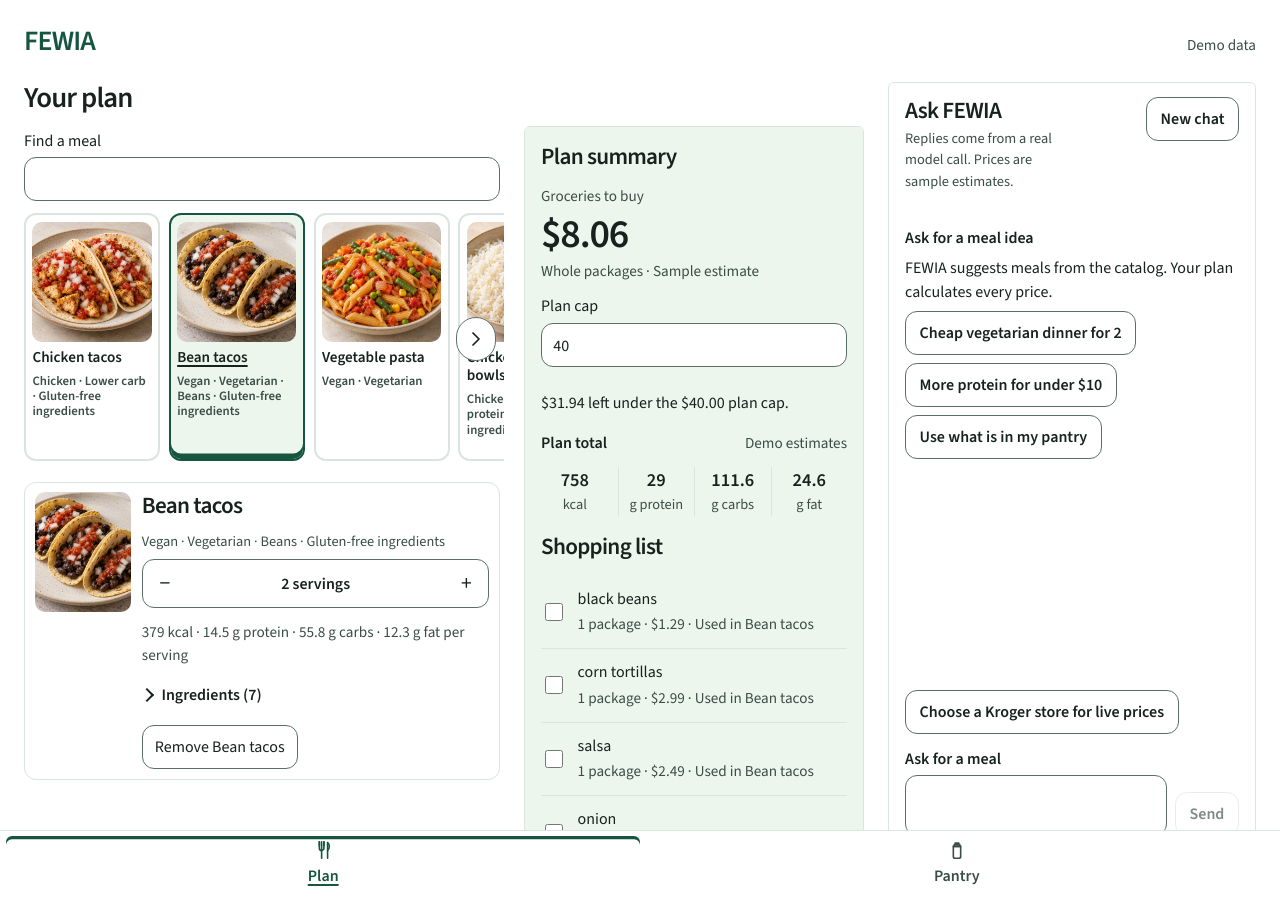
Test: TonightPrototype › keeps the estimate status still when a serving bound is rejected
Click the button named "Decrease servings for Bean tacos" at {"x": 165, "y": 584}, box [143,560,187,607]
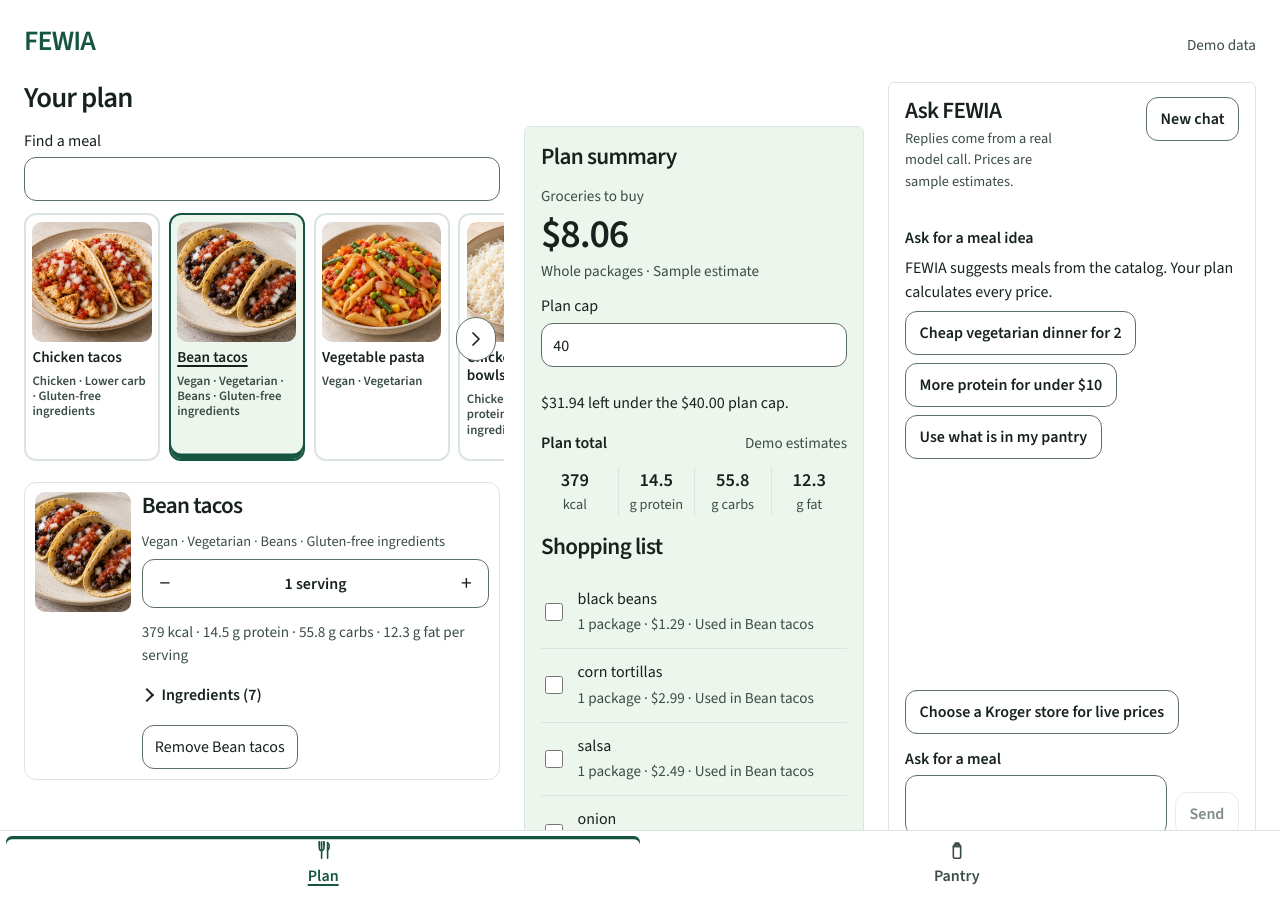
Click the button named "Decrease servings for Bean tacos" at {"x": 165, "y": 584}, box [143,560,187,607]
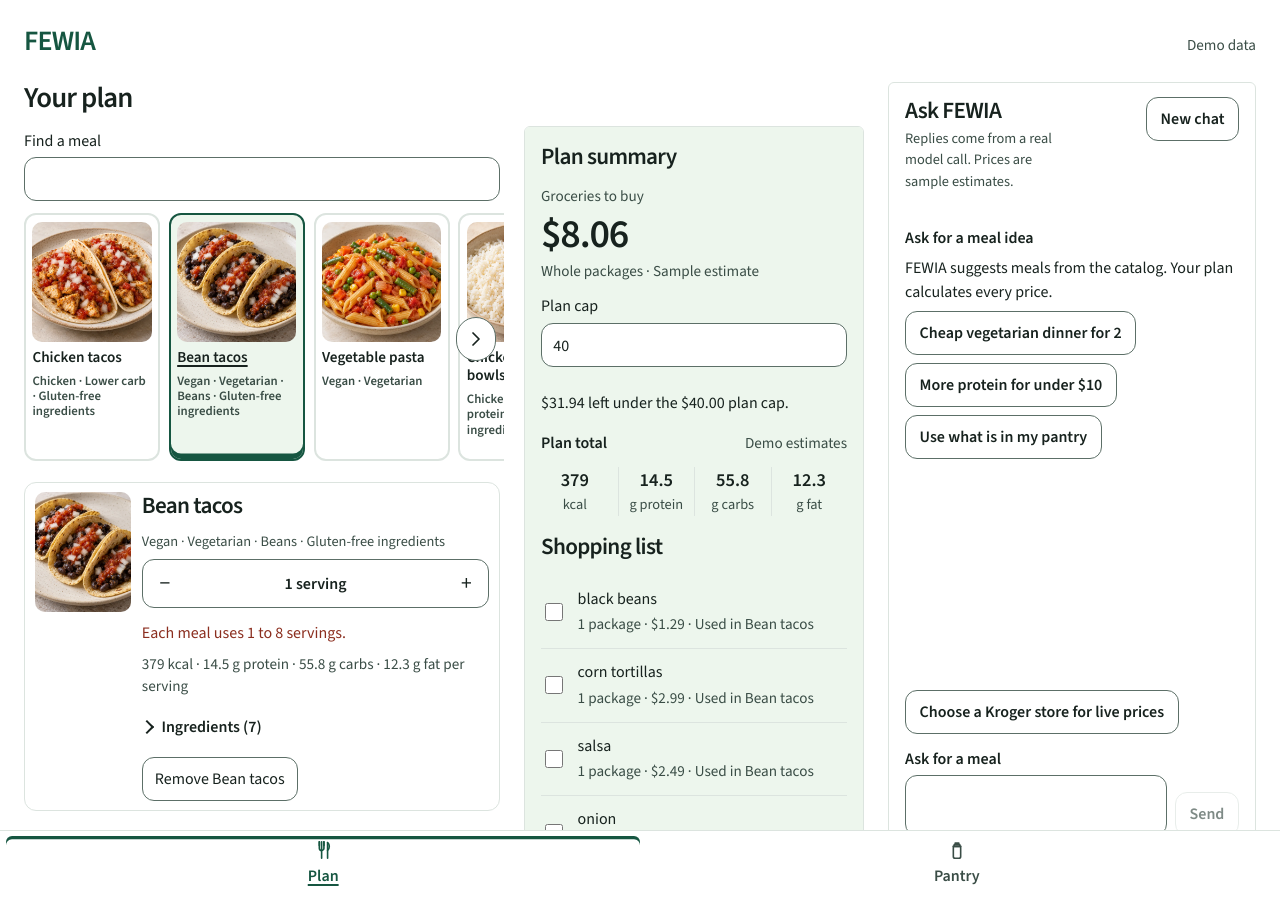
Expected: the message "Each meal uses 1 to 8 servings." is shown, [142,622,346,644]
